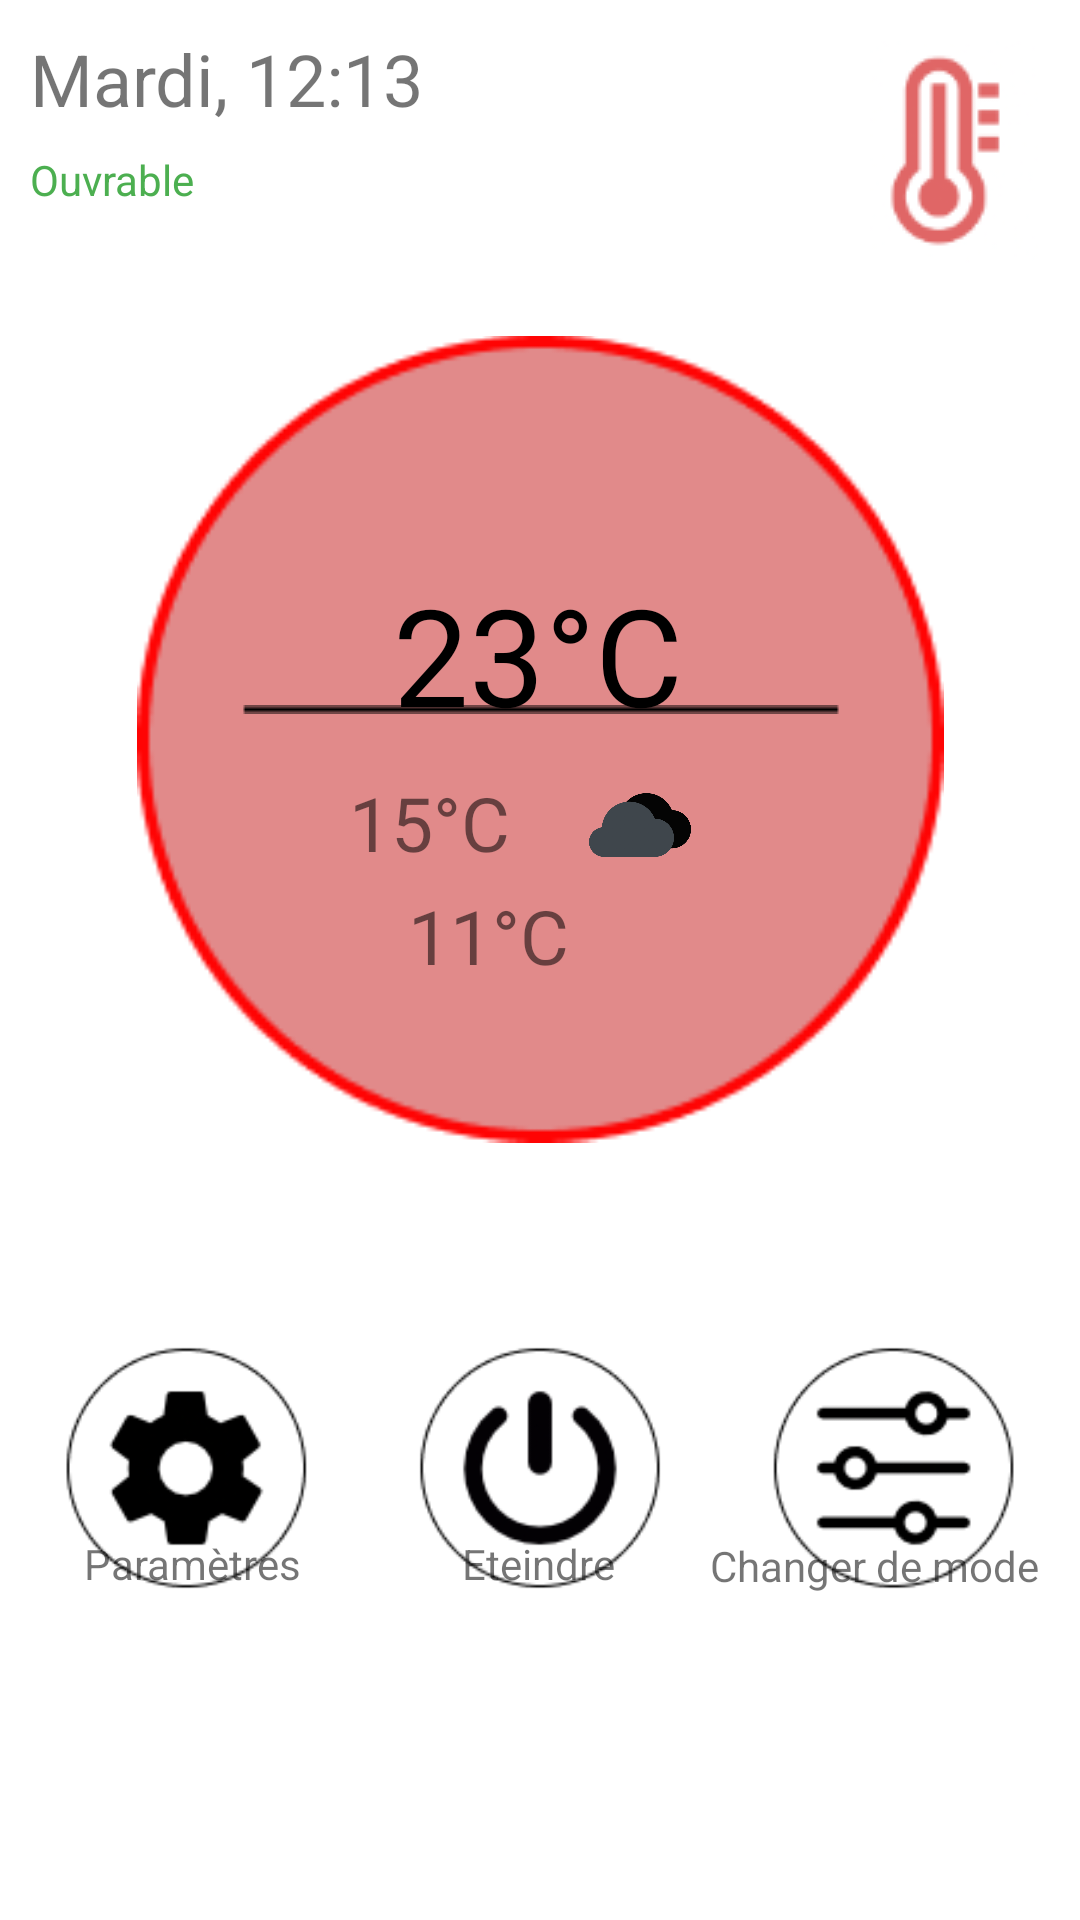

Named icons in this screenshot (1080 × 1920) and their bounding boxes, (x1, y1, x2, y2):
cloud: (589, 793, 691, 857)
